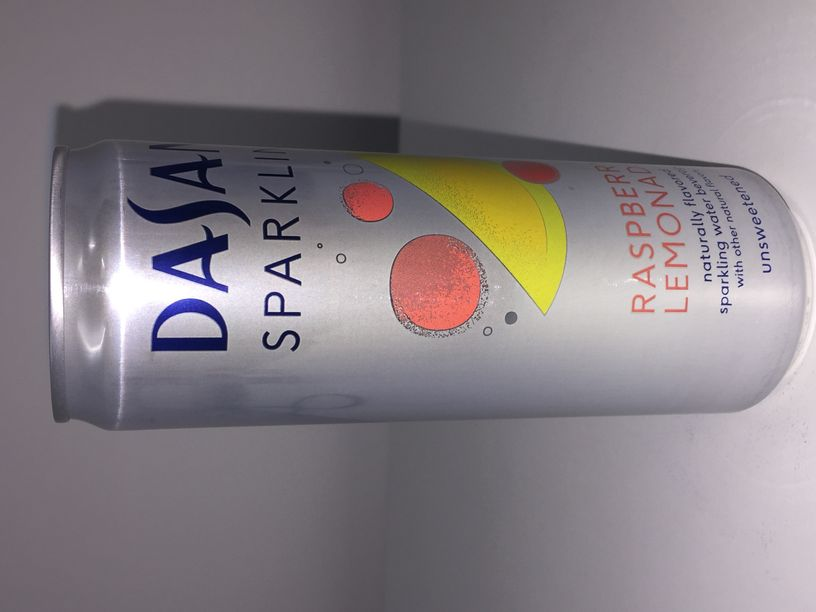lemonade: (47, 137, 816, 433)
